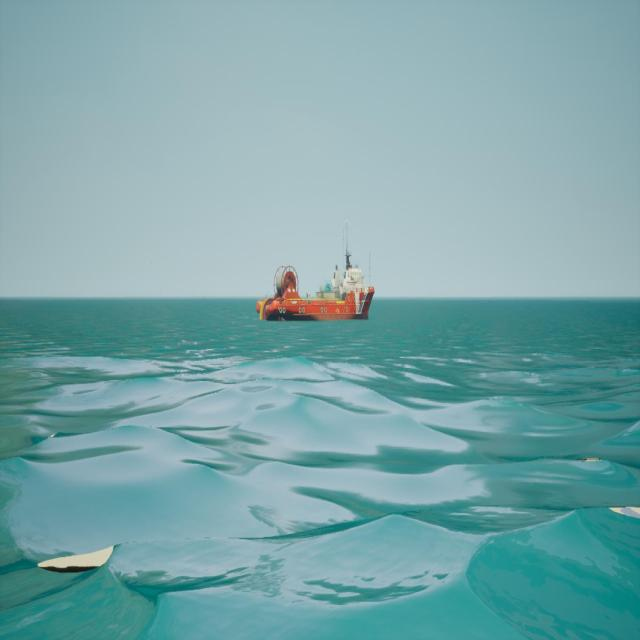tug boat: (260, 223, 378, 325)
